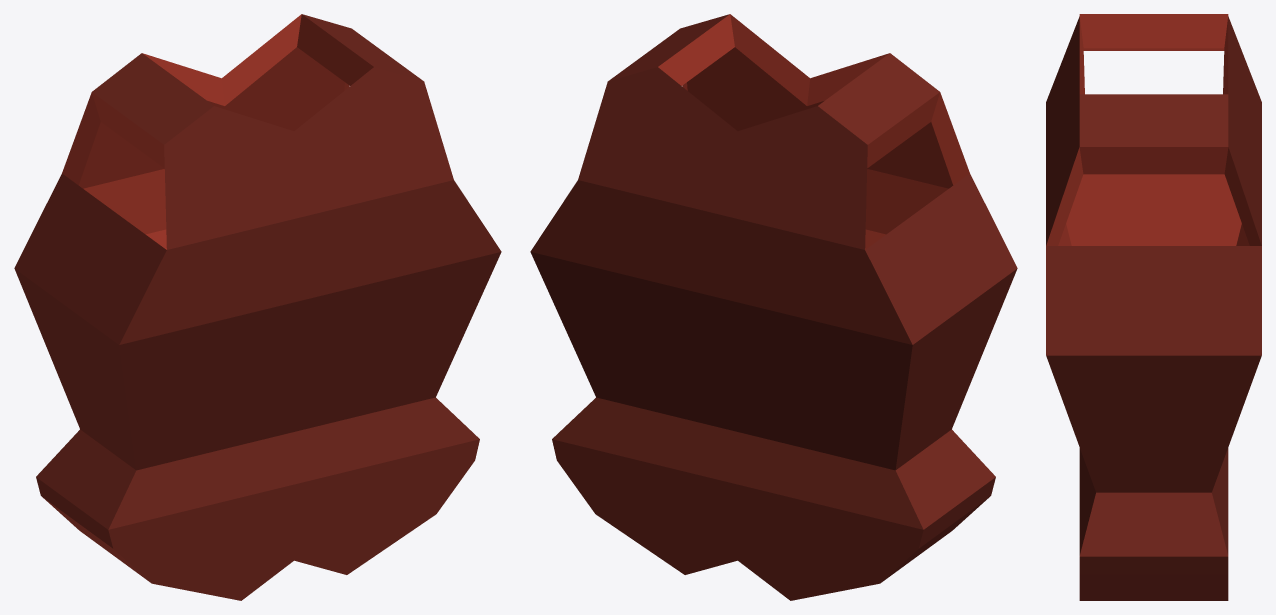
The model's file is Armor_1_Red.fbx.
3 views of the same model, side by side, from view 1: azimuth 30°, elevation 25°; view 2: azimuth 150°, elevation 25°; view 3: azimuth 270°, elevation 25° (orthographic). The views are drawn at different scales.
Parts seen in each view (by area): view 1: Armor_1_Red_Part_1, Armor_1_Red_Part_2; view 2: Armor_1_Red_Part_1, Armor_1_Red_Part_2; view 3: Armor_1_Red_Part_1, Armor_1_Red_Part_2.
Boxes of the visible parts, left/top/right/bottom form: Armor_1_Red_Part_1: left=14, top=14, right=501, bottom=600; Armor_1_Red_Part_2: left=62, top=14, right=373, bottom=249; Armor_1_Red_Part_1: left=530, top=14, right=1017, bottom=600; Armor_1_Red_Part_2: left=658, top=14, right=969, bottom=249; Armor_1_Red_Part_1: left=1046, top=16, right=1261, bottom=600; Armor_1_Red_Part_2: left=1046, top=14, right=1261, bottom=245.
Size of the model in its own units: 118 by 148 by 56.29.
